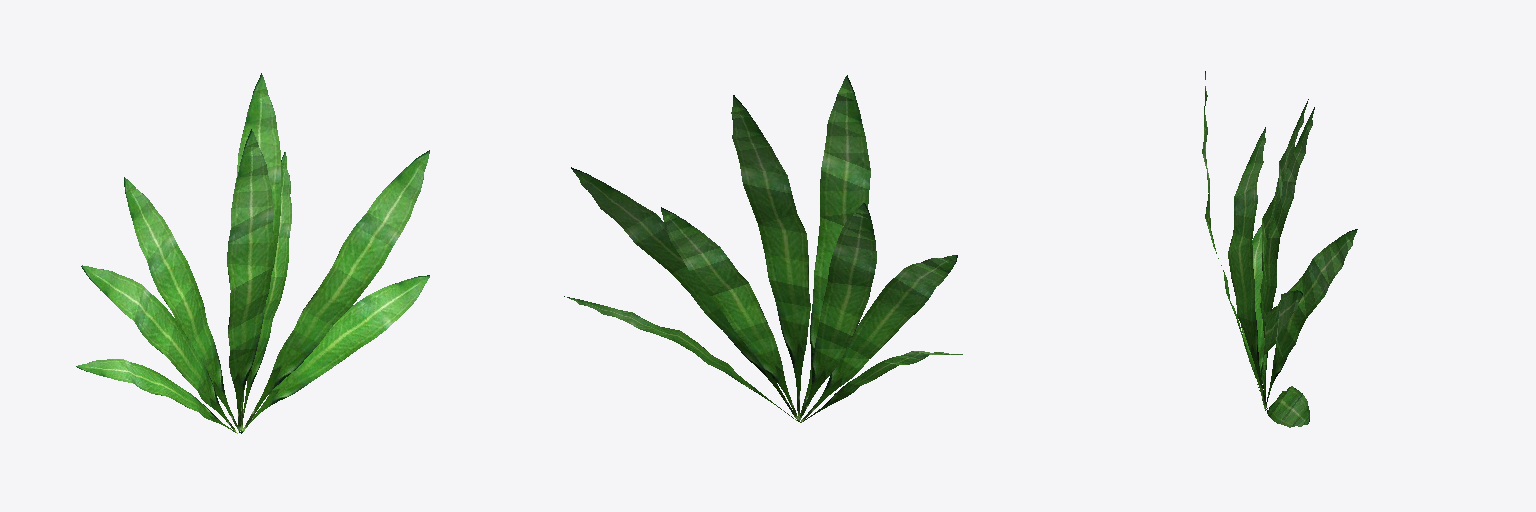
3 renders of one model, left to right at view 1: azimuth 30°, elevation 25°; view 2: azimuth 150°, elevation 25°; view 3: azimuth 270°, elevation 25°, orthographic.
Parts seen in each view (by area): view 1: AmazonSword.000_Plane.000, AmazonSword.006_Plane.008; view 2: AmazonSword.000_Plane.000, AmazonSword.006_Plane.008; view 3: AmazonSword.000_Plane.000, AmazonSword.006_Plane.008.
Boxes of the visible parts, <box> form: AmazonSword.000_Plane.000: <box>76,73,429,433</box>; AmazonSword.006_Plane.008: <box>77,76,429,433</box>; AmazonSword.000_Plane.000: <box>564,75,962,422</box>; AmazonSword.006_Plane.008: <box>568,78,961,421</box>; AmazonSword.000_Plane.000: <box>1202,71,1357,427</box>; AmazonSword.006_Plane.008: <box>1202,73,1356,426</box>.
Bounding box in the file's own units: 2.89 × 2.45 × 1.03.
Materials: 1 (1 with a texture image).